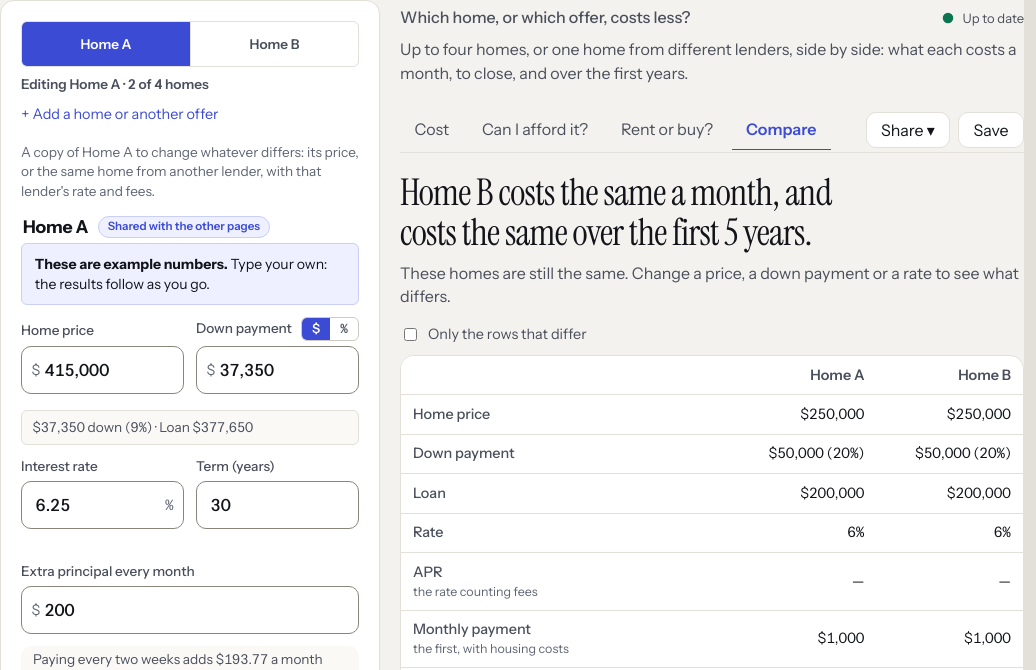
Test: ComparePageComponent › edits Home B in the same place, leaving Home A as it was, and only Home A is the shared loan
Click the radio button labelled "Home B" at coordinates (274, 44), box [190,22,358,66]
Wait 400 ms
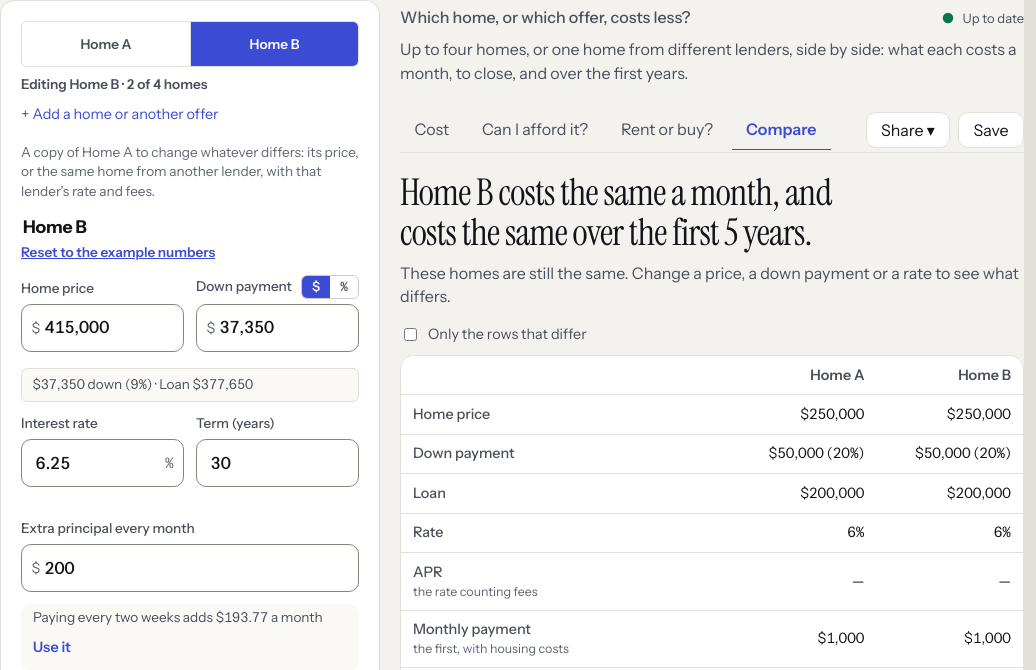
Now the text with test id "loan-heading" reads "Home B", box [23,216,87,237]
Now the text with test id "shared-tag" is gone
Replace the text in the field with test id "home-price" with "450000" at coordinates (102, 328), box [21,304,184,352]
Wait 400 ms
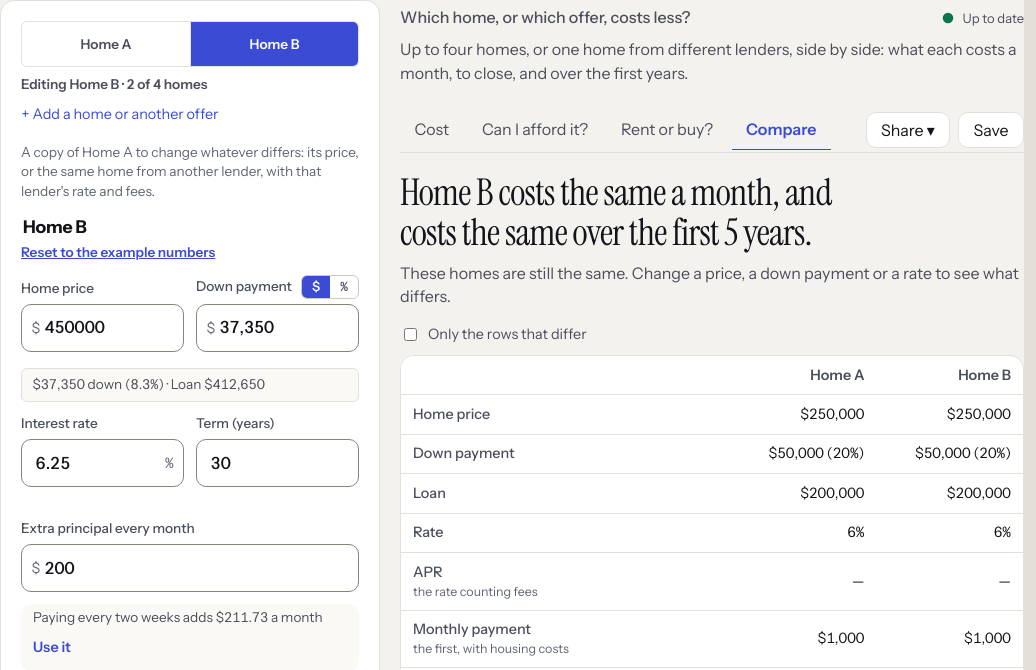
Click the radio button labelled "Home A" at coordinates (106, 44), box [80,36,132,52]
Wait 400 ms
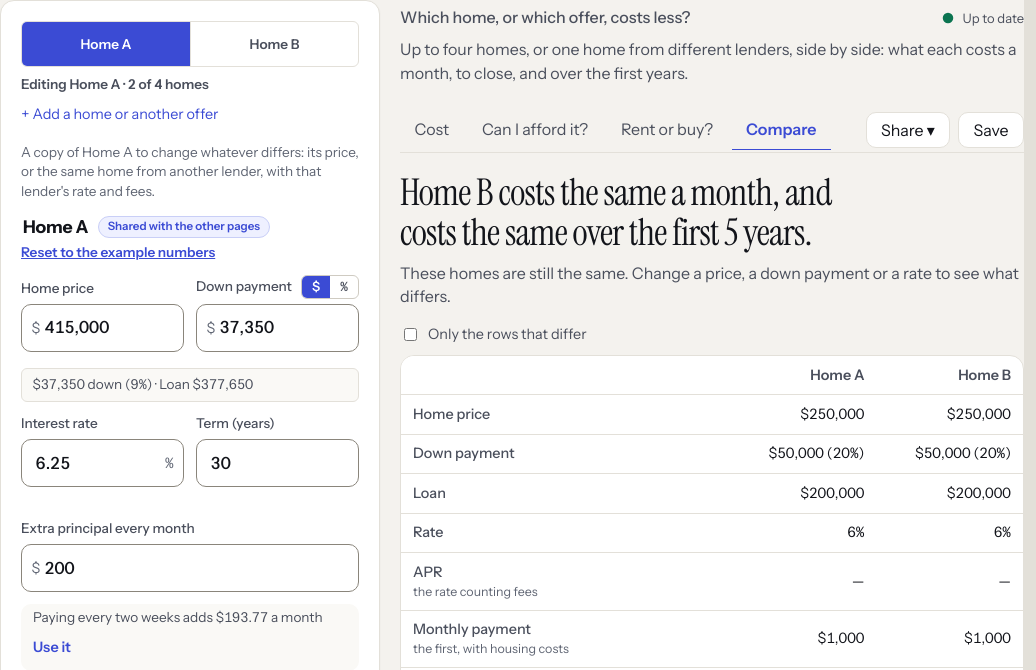
Now the field with test id "home-price" holds "415,000", box [21,304,184,352]
